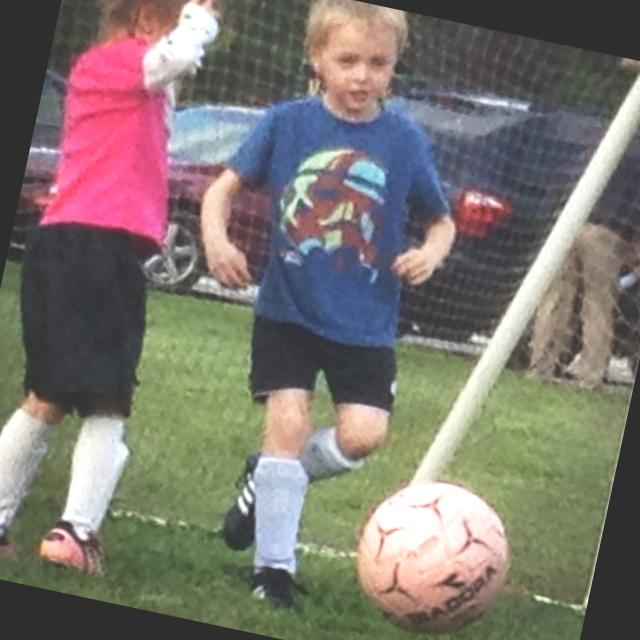Vehicle: (350, 76, 612, 358), (140, 96, 264, 300)
